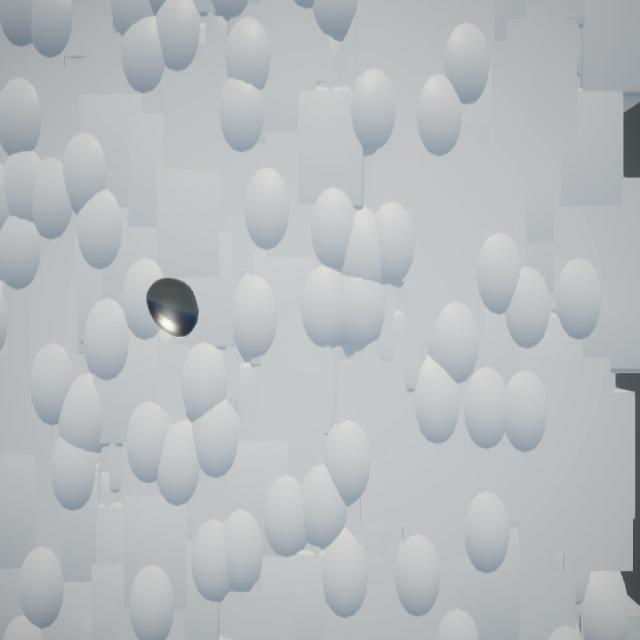top_spoon: (147, 279, 200, 339)
